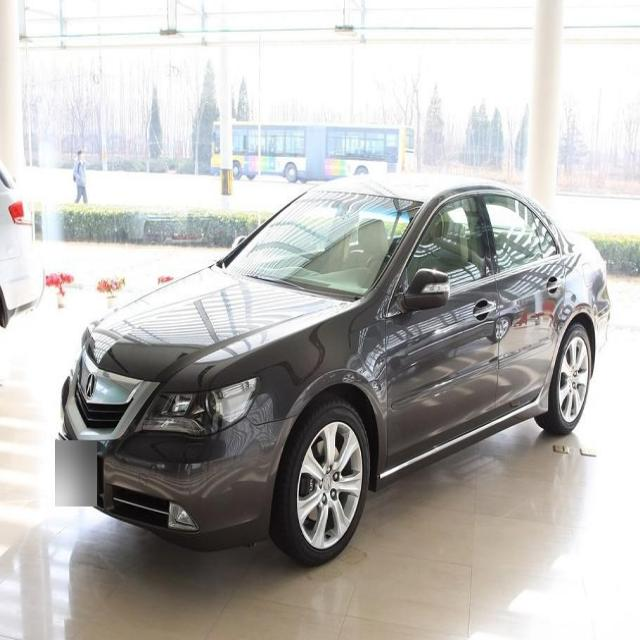door: (482, 194, 567, 414)
front_glass: (220, 188, 426, 298)
front_left_side_door: (382, 190, 500, 488)
front_left_side_light: (133, 375, 262, 434)
front_left_side_mirror: (398, 267, 450, 312)
wheel: (270, 398, 371, 566), (532, 322, 592, 434)
